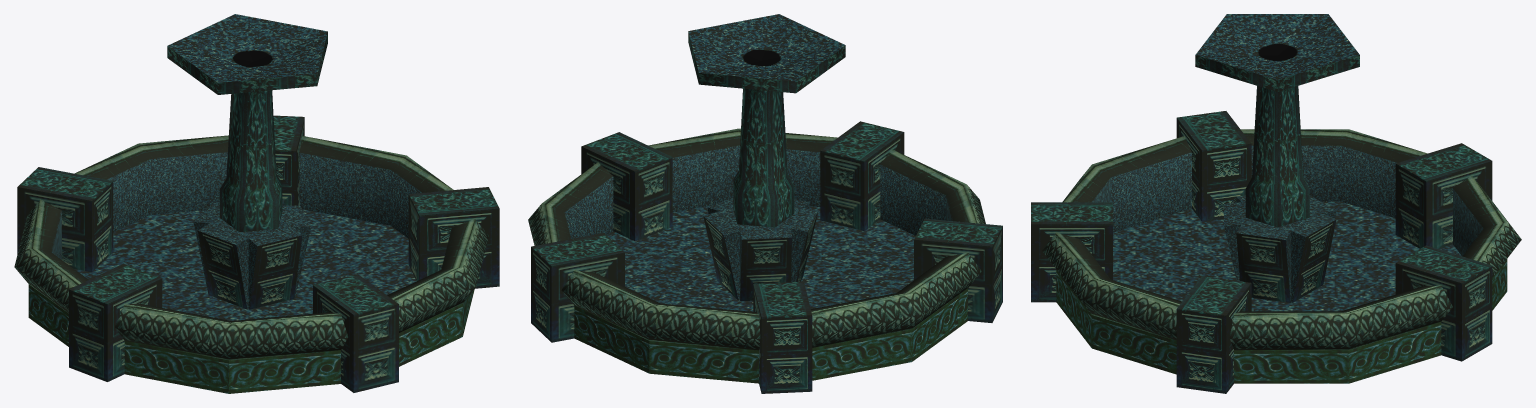
File: Fontan.FBX
3 renders of one model, left to right at view 1: azimuth 30°, elevation 25°; view 2: azimuth 150°, elevation 25°; view 3: azimuth 270°, elevation 25°, orthographic. The views are drawn at different scales.
Visible parts, largest first — view 1: Fontan; view 2: Fontan; view 3: Fontan.
Boxes of the visible parts, x1,y1,x2,y2 form: Fontan: (14,14,499,393); Fontan: (528,14,1002,393); Fontan: (1031,14,1521,393).
Size of the model in its own units: 128 by 72.41 by 130.
Materials: 1 (1 with a texture image).
